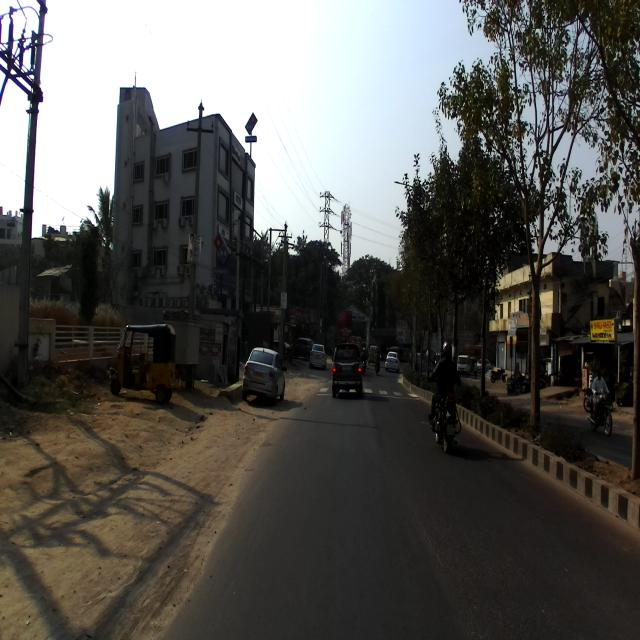auto ahead at: (105, 321, 177, 411)
car ahead at: (328, 340, 370, 406), (246, 340, 284, 408)
electric pole ahead at: (7, 0, 52, 415)
